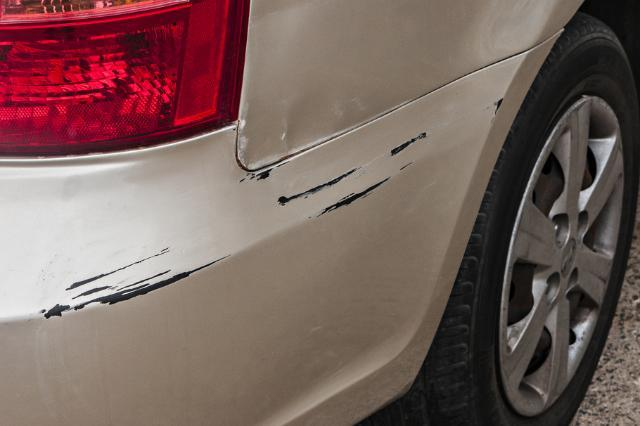Bumper: (17, 100, 544, 331)
